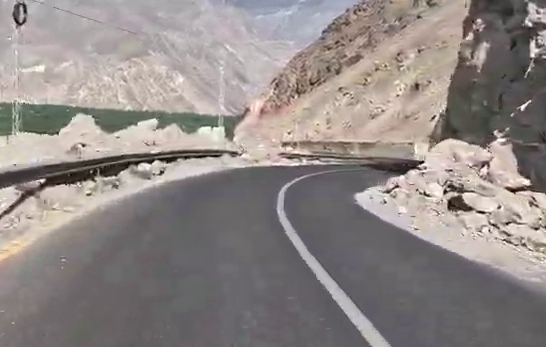stright: (159, 161, 418, 291)
